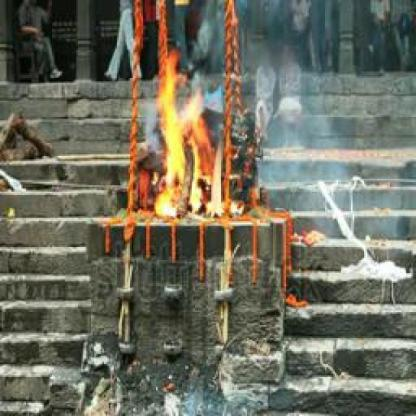fire: (157, 54, 227, 218)
